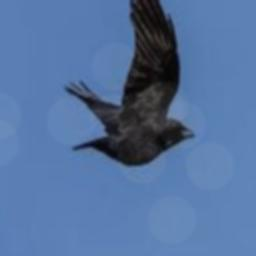Crow: (64, 0, 196, 164)
